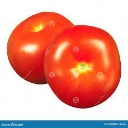tomato: (44, 25, 121, 109), (8, 11, 78, 85)
